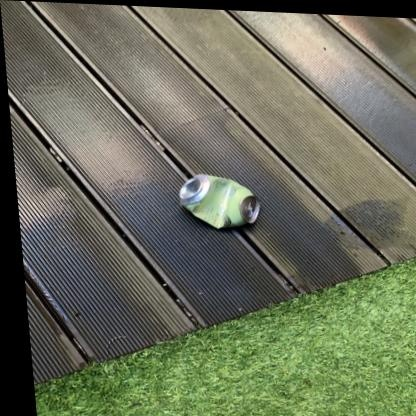trash: (179, 175, 259, 228)
